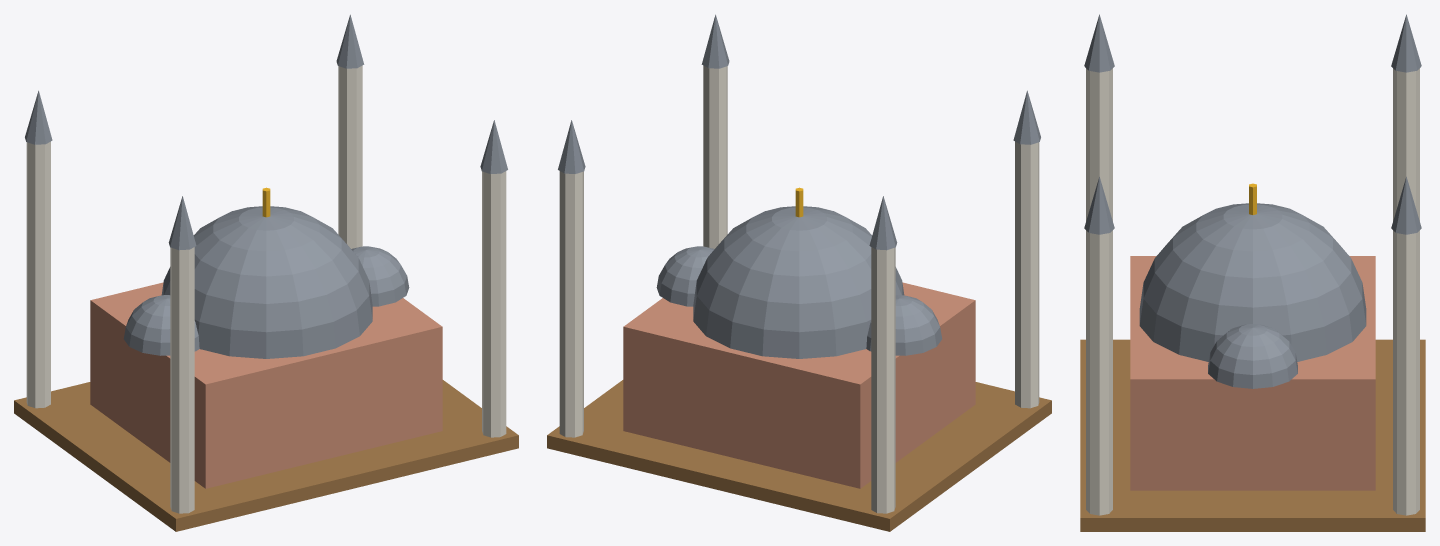
The model's file is hagia_sophia.glb.
3 views of the same model, side by side, from view 1: azimuth 30°, elevation 25°; view 2: azimuth 150°, elevation 25°; view 3: azimuth 270°, elevation 25° (orthographic). The views are drawn at different scales.
Parts seen in each view (by area): view 1: hagia_sophia; view 2: hagia_sophia; view 3: hagia_sophia.
Boxes of the visible parts, <box> form: hagia_sophia: <box>14,14,518,531</box>; hagia_sophia: <box>547,14,1051,531</box>; hagia_sophia: <box>1080,14,1425,531</box>.
Bounding box in the file's own units: 1.1 × 1 × 0.9.
